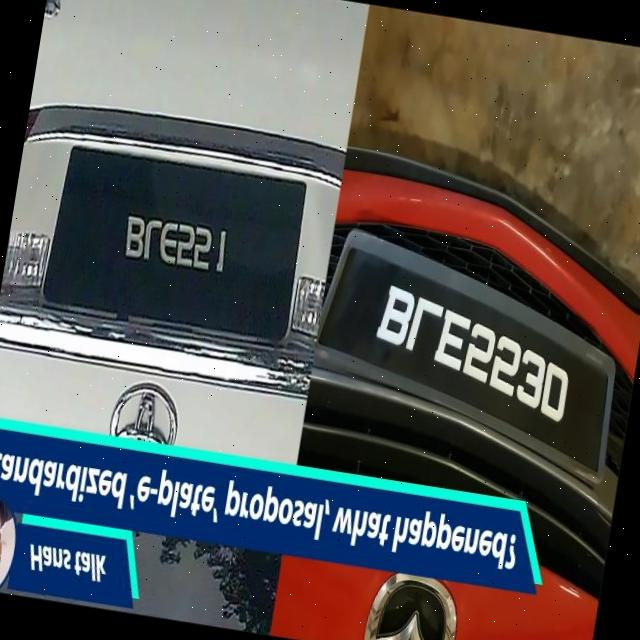License_Plate: (301, 226, 637, 491), (39, 142, 311, 348)
